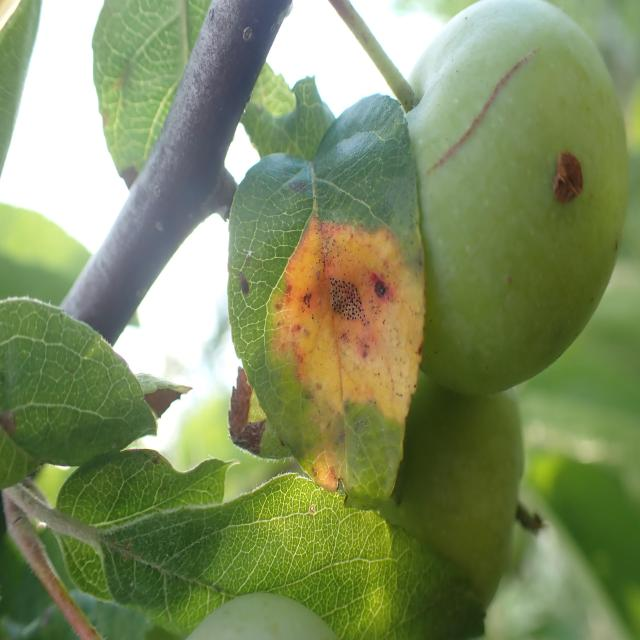rust: (226, 90, 427, 507)
